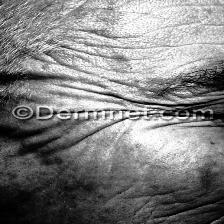Benign Marking or Mole: (77, 71, 156, 106), (187, 145, 224, 199)
